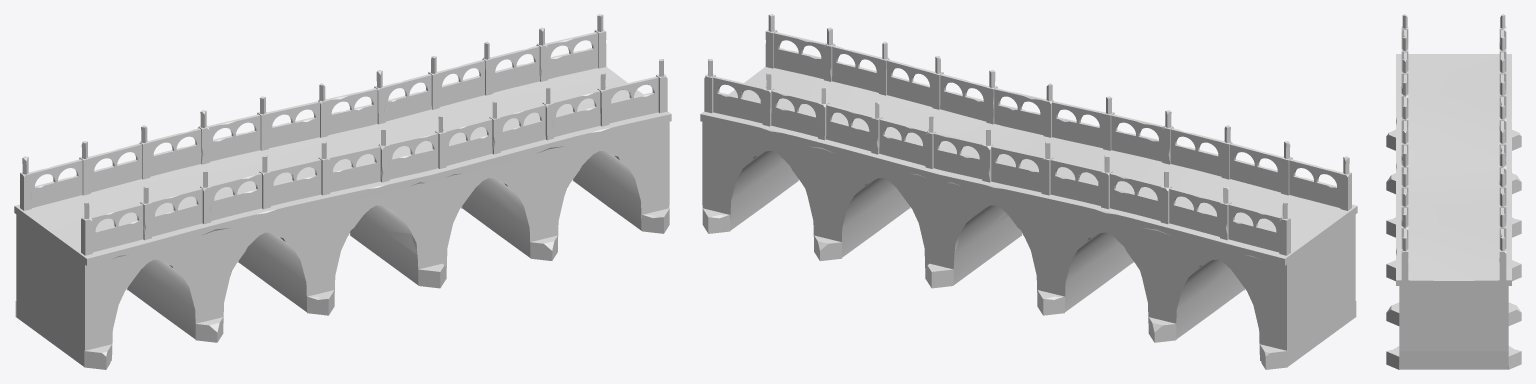
File: SM_Bridge_02.fbx
3 views of the same model, side by side, from view 1: azimuth 30°, elevation 25°; view 2: azimuth 150°, elevation 25°; view 3: azimuth 270°, elevation 25° (orthographic). The views are drawn at different scales.
Visible parts, largest first — view 1: SM_Bridge_3; view 2: SM_Bridge_3; view 3: SM_Bridge_3.
Boxes of the visible parts, <box> form: SM_Bridge_3: <box>14,14,671,369</box>; SM_Bridge_3: <box>700,14,1357,369</box>; SM_Bridge_3: <box>1386,14,1521,369</box>.
Size of the model in its own units: 3491 by 935 by 874.
